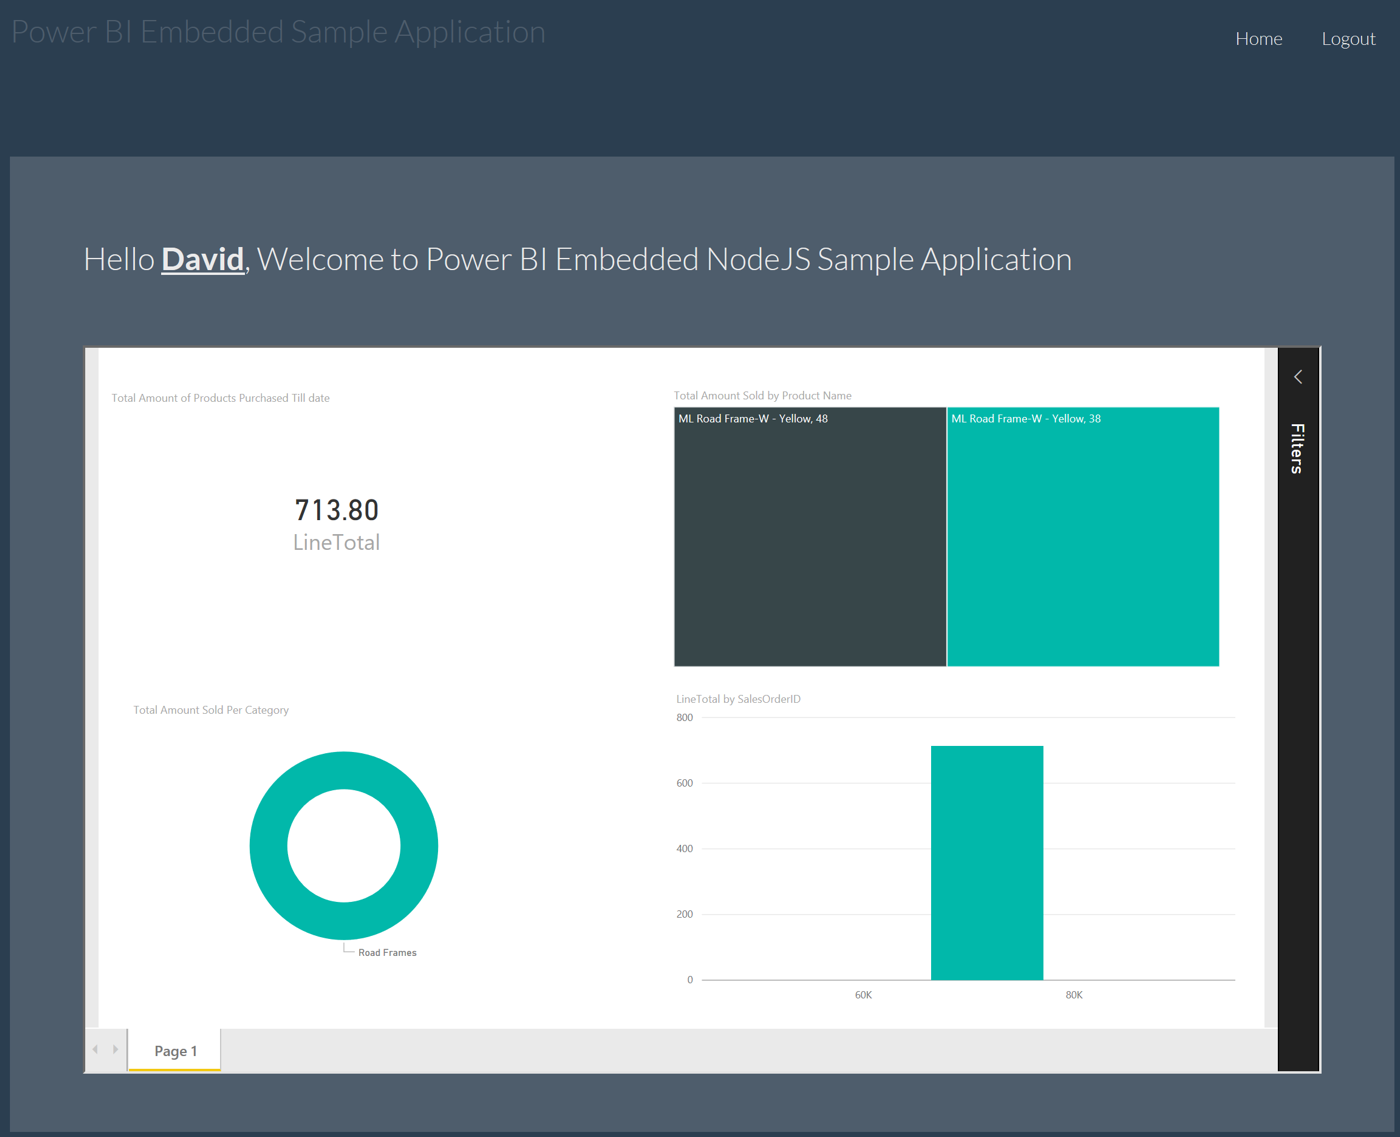

The dashboard page shown, as its layout file describes it:
{"tool":"powerbi","page":{"name":"Page 1","canvas":[1280,720],"ordinal":0},"visuals":[{"type":"clusteredColumnChart","fields":{"Y":["Sum(SalesLT SalesOrderDetail.LineTotal)"],"Category":["SalesLT SalesOrderDetail.SalesOrderID"]},"box":[628.8,350.3,623.9,345.4],"z":2},{"type":"donutChart","fields":{"Category":["SalesLT ProductCategory.Name"],"Y":["CountNonNull(SalesLT SalesOrderDetail.ProductID)"]},"box":[32.8,363,473.1,300.4],"z":3},{"type":"treemap","fields":{"Group":["SalesLT Product.Name"],"Values":["Sum(SalesLT SalesOrderDetail.LineTotal)"]},"box":[627,17,608.7,311.4],"z":4},{"type":"card","fields":{"Values":["Sum(SalesLT SalesOrderDetail.LineTotal)"]},"box":[9.7,20.1,503.5,266.4],"z":4}]}

Visuals, with their boxes on the page's 1280x720 design canvas (x1, y1, x2, y2). These are canvas units, not pixel positions in the 1400x1137 screenshot, which may show the page scaled, cropped or inside an application window:
clusteredColumnChart - Sum(SalesLT SalesOrderDetail.LineTotal) x SalesLT SalesOrderDetail.SalesOrderID: box=[629, 350, 1253, 696]
donutChart - SalesLT ProductCategory.Name x CountNonNull(SalesLT SalesOrderDetail.ProductID): box=[33, 363, 506, 663]
treemap - SalesLT Product.Name x Sum(SalesLT SalesOrderDetail.LineTotal): box=[627, 17, 1236, 328]
card - Sum(SalesLT SalesOrderDetail.LineTotal): box=[10, 20, 513, 286]
